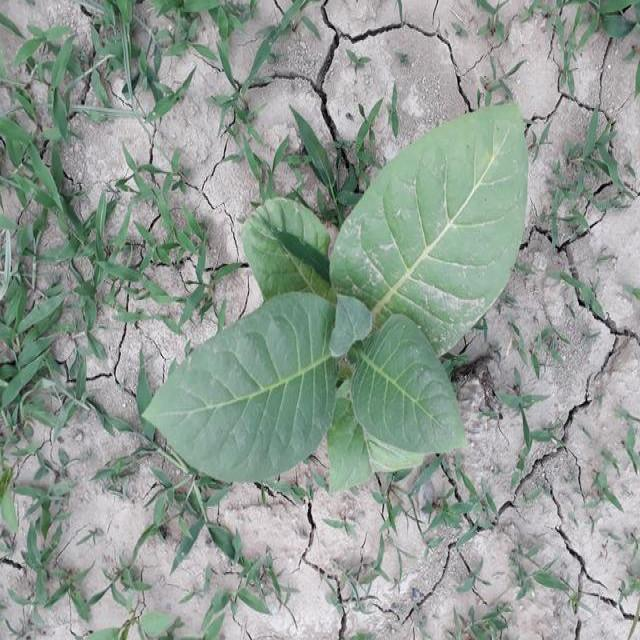crop: (143, 85, 532, 491)
